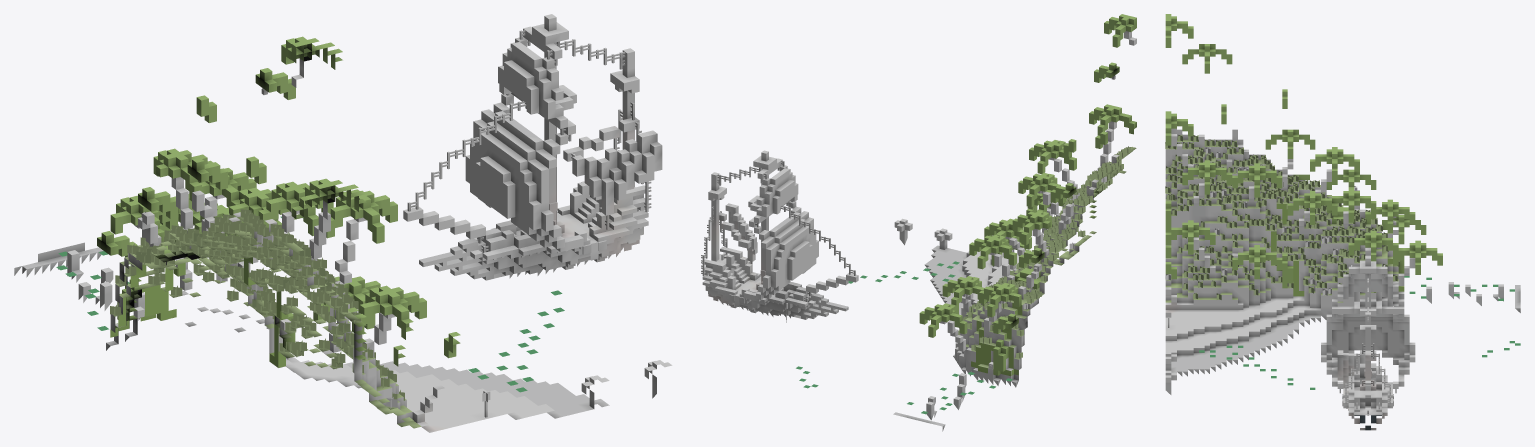
3 views of the same model, side by side, from view 1: azimuth 30°, elevation 25°; view 2: azimuth 150°, elevation 25°; view 3: azimuth 270°, elevation 25° (orthographic). The views are drawn at different scales.
Visible parts, largest first — view 1: recorte, opaco; view 2: recorte, opaco; view 3: recorte, opaco.
Part boxes in pixels (bbox=[...]): recorte: bbox=[56, 14, 664, 428]; opaco: bbox=[14, 20, 672, 432]; recorte: bbox=[701, 14, 1136, 414]; opaco: bbox=[704, 31, 1136, 431]; recorte: bbox=[1165, 14, 1520, 430]; opaco: bbox=[1165, 129, 1520, 430].
Size of the model in its own units: 64.2 by 54 by 64.08.
